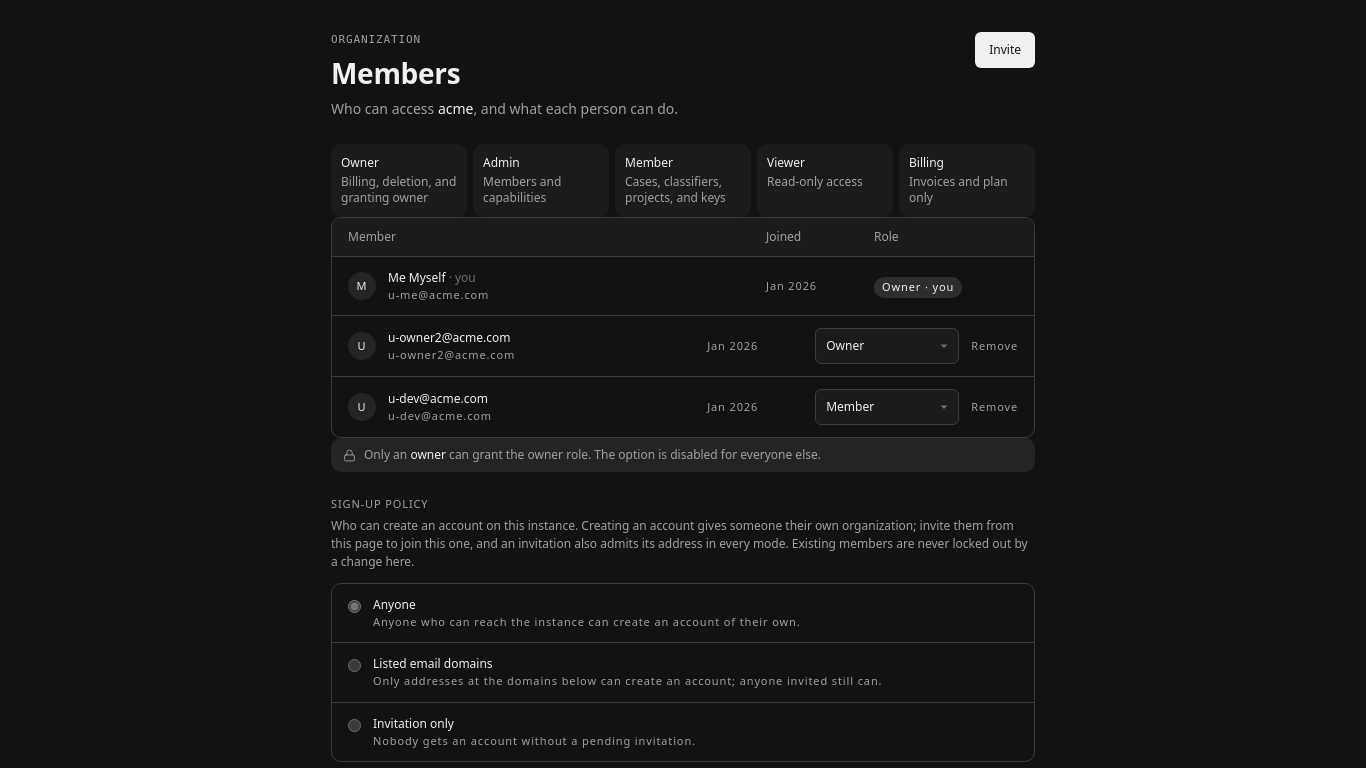
it: as an owner › can re-role and remove anyone but themself, owners included
The width and height of the screenshot is (1366, 768).
Expected: the text "Owner · you" is shown, [874,278,962,298]
Select "Member" in the 2nd dropdown at [887, 408], box [815,390,959,426]
Select "Admin" in the 2nd dropdown at [887, 408], box [815,390,959,426]
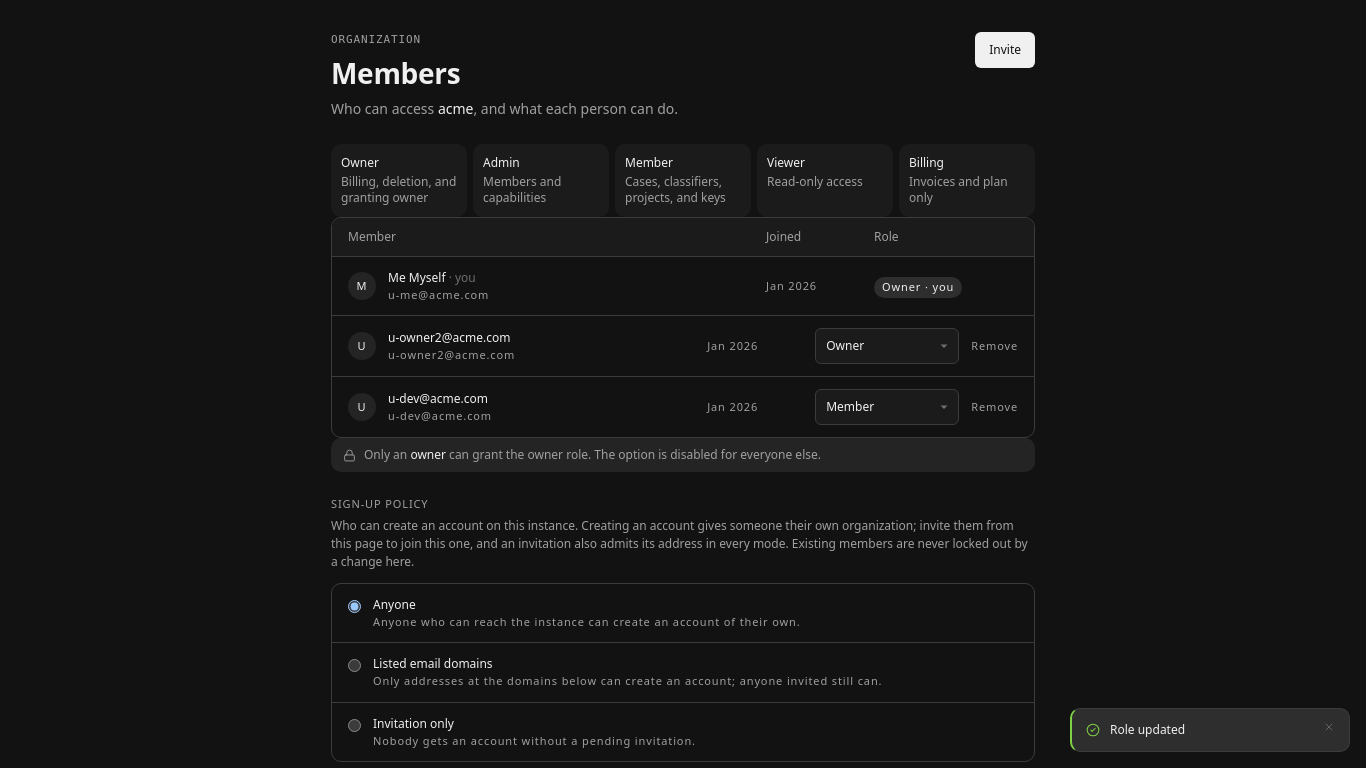
Now the text "Role updated" is shown, box [1110,721,1185,738]
Click the 1st button "Remove" at [995, 346], box [971,338,1018,355]
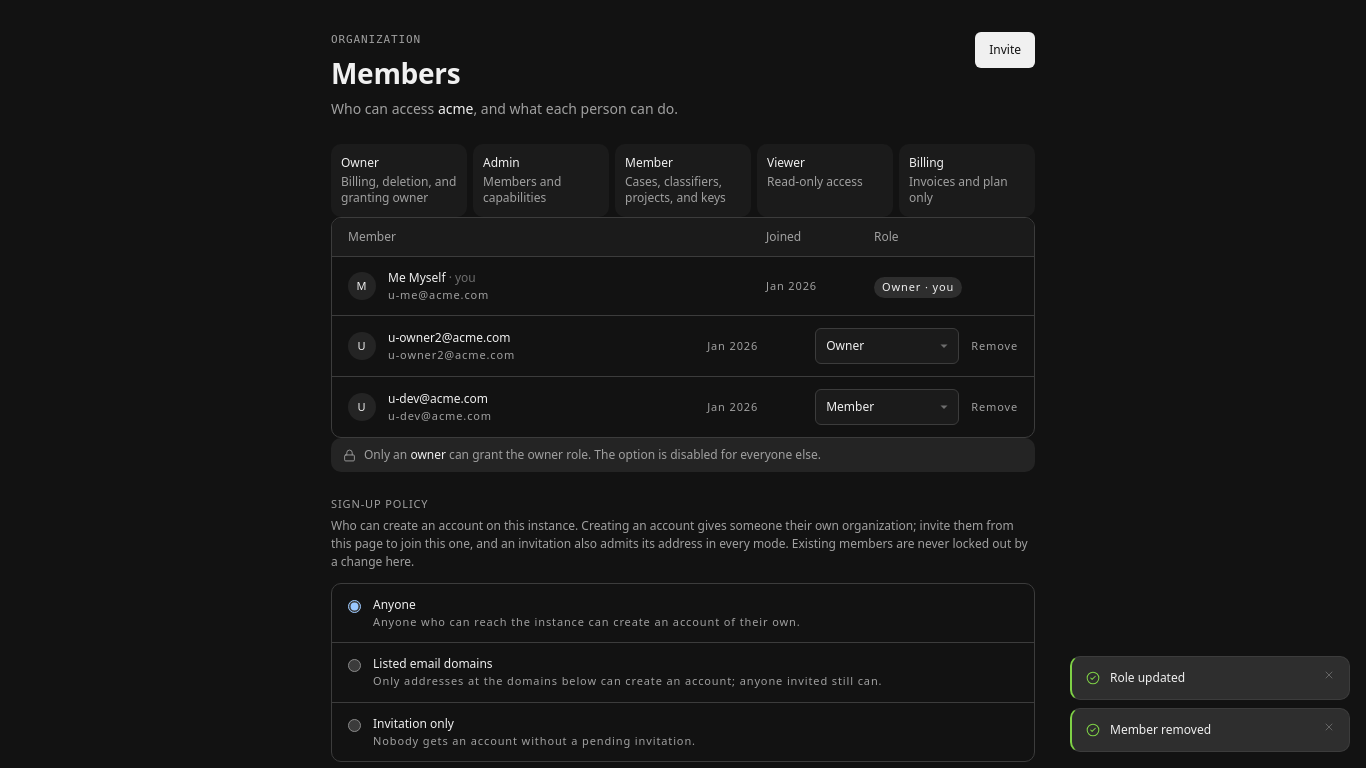
Now the text "Member removed" is shown, box [1110,721,1211,738]
